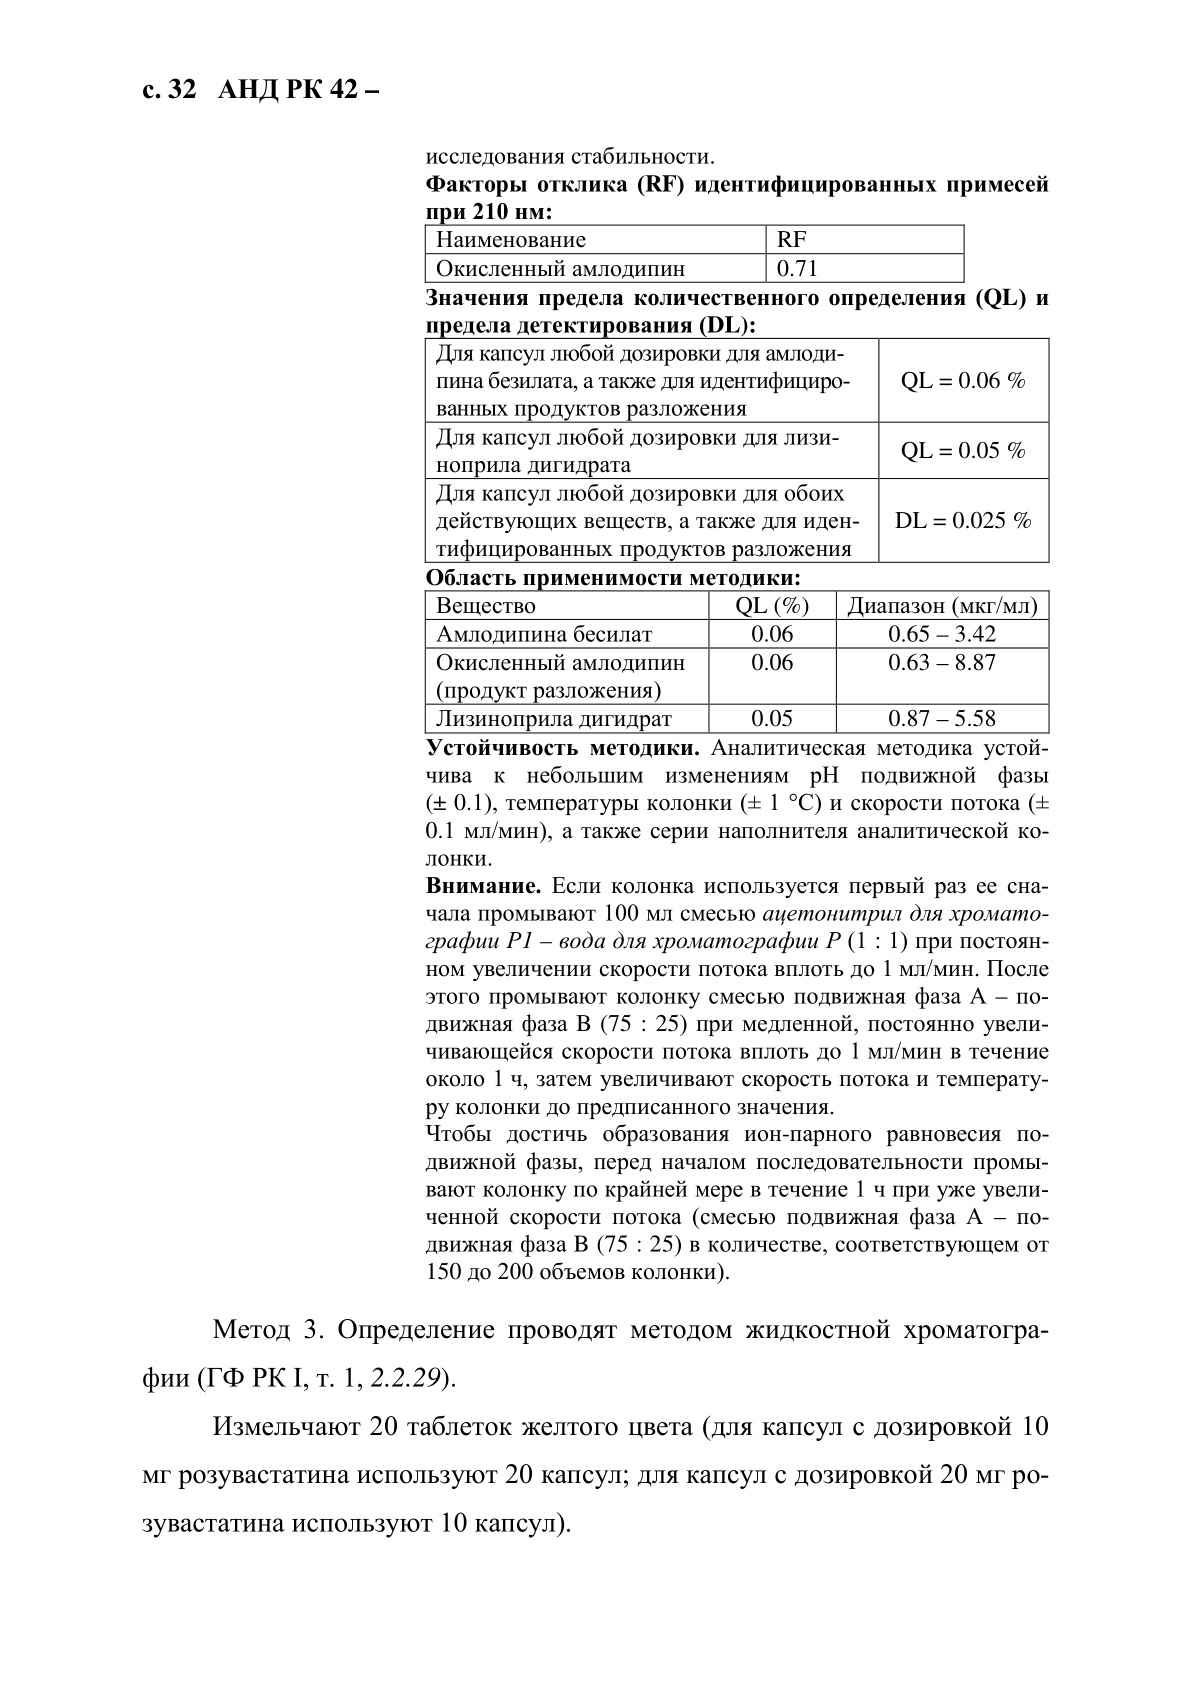full_lined: (423, 338, 1051, 564), (423, 590, 1051, 734), (424, 224, 965, 283)
